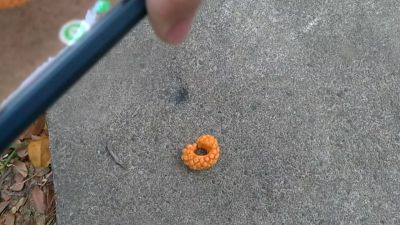eggs: (179, 133, 221, 173)
